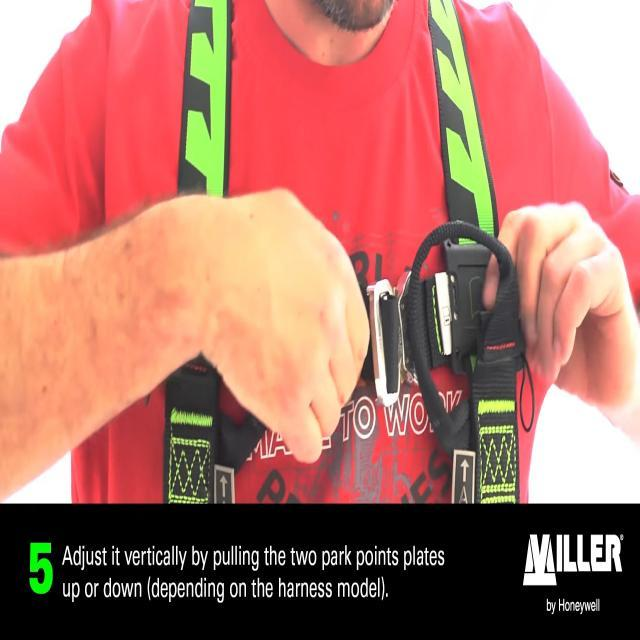belt: (145, 0, 528, 503)
